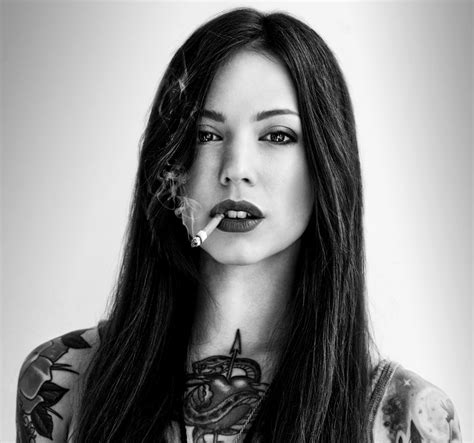cigarette: (188, 213, 226, 249)
